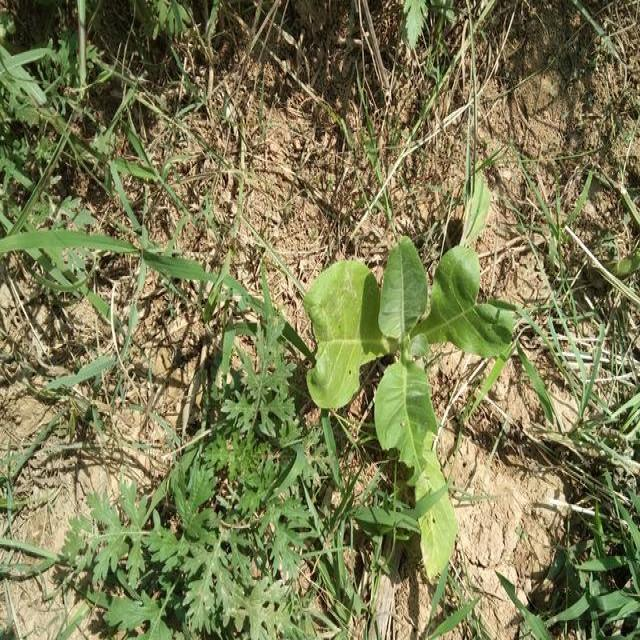crop: (313, 224, 499, 573)
